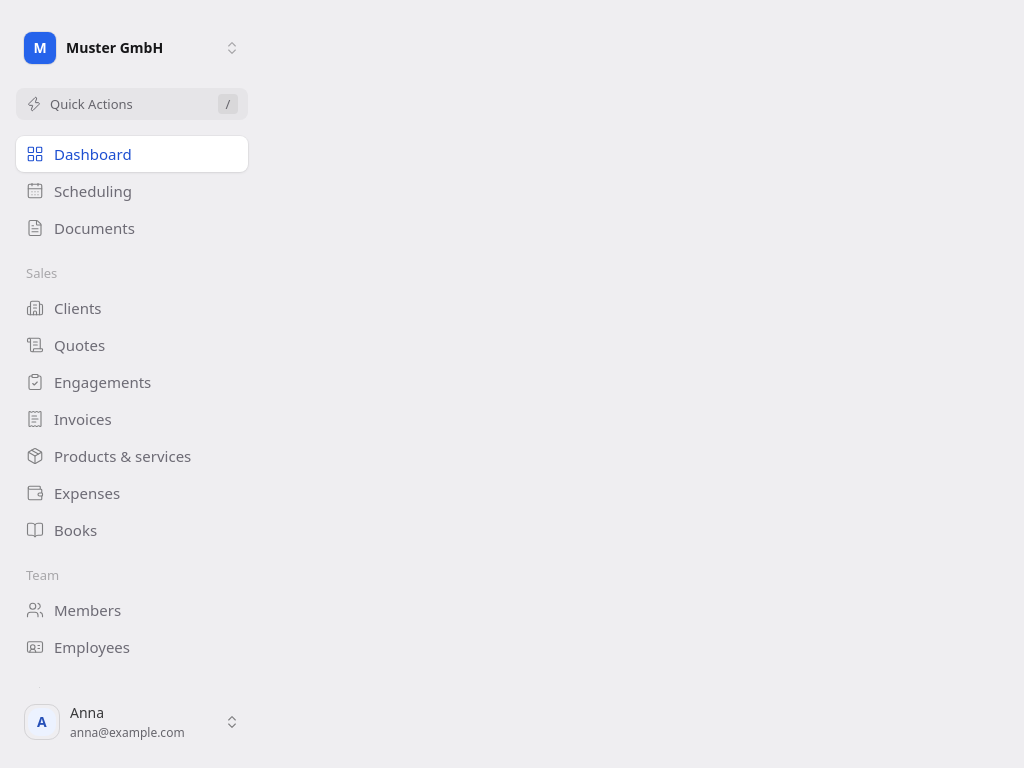
Test: Help & feedback lives in the user menu only, and opens its dialog
This screenshot has width=1024, height=768.
Expected: the button "Help & feedback" is not shown
Click the button "A Anna anna@example.com". click: coordinates (132, 722)
box: [16,696,248,748]
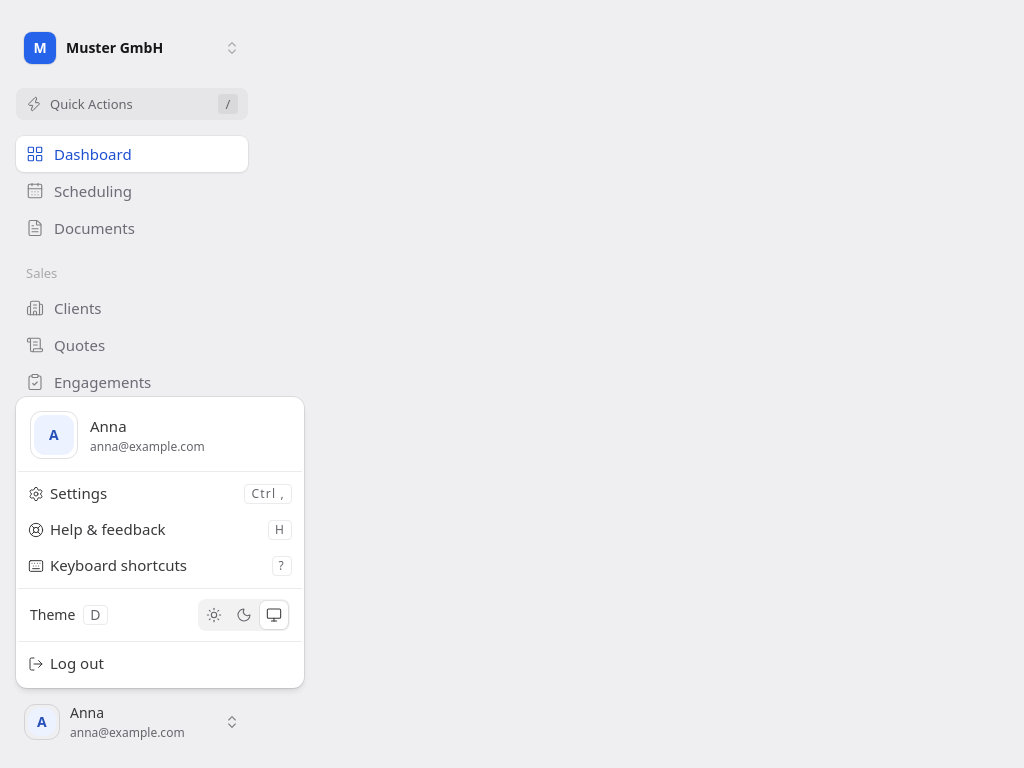
Click the menu item "Help & feedback H". click: coordinates (160, 530)
box: [28,519,292,540]
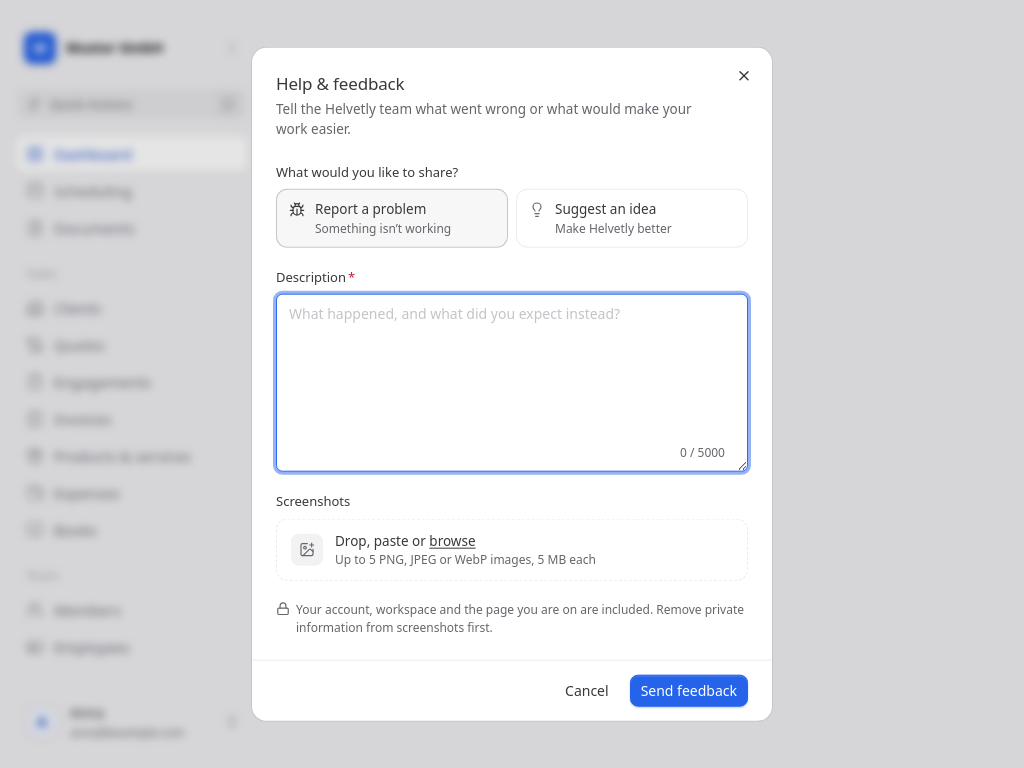
Expected: the dialog "Help & feedback" is shown, [252,48,772,720]
